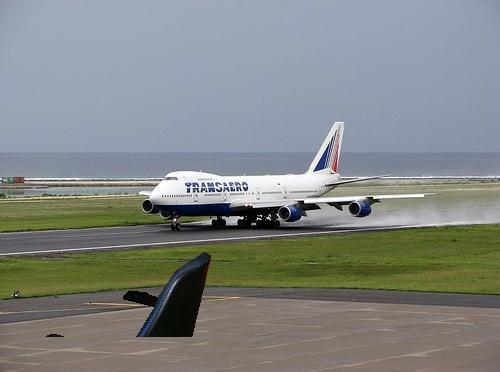tampered: (46, 253, 211, 337)
